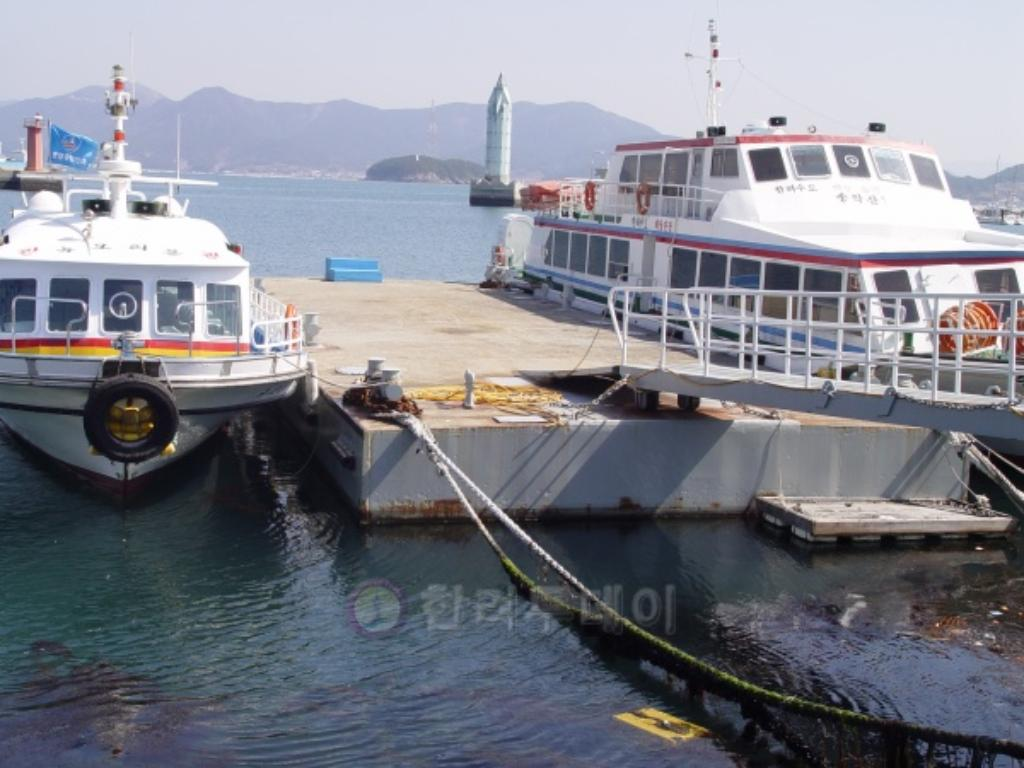PassengerShip: (480, 28, 1024, 434), (0, 54, 320, 496)
